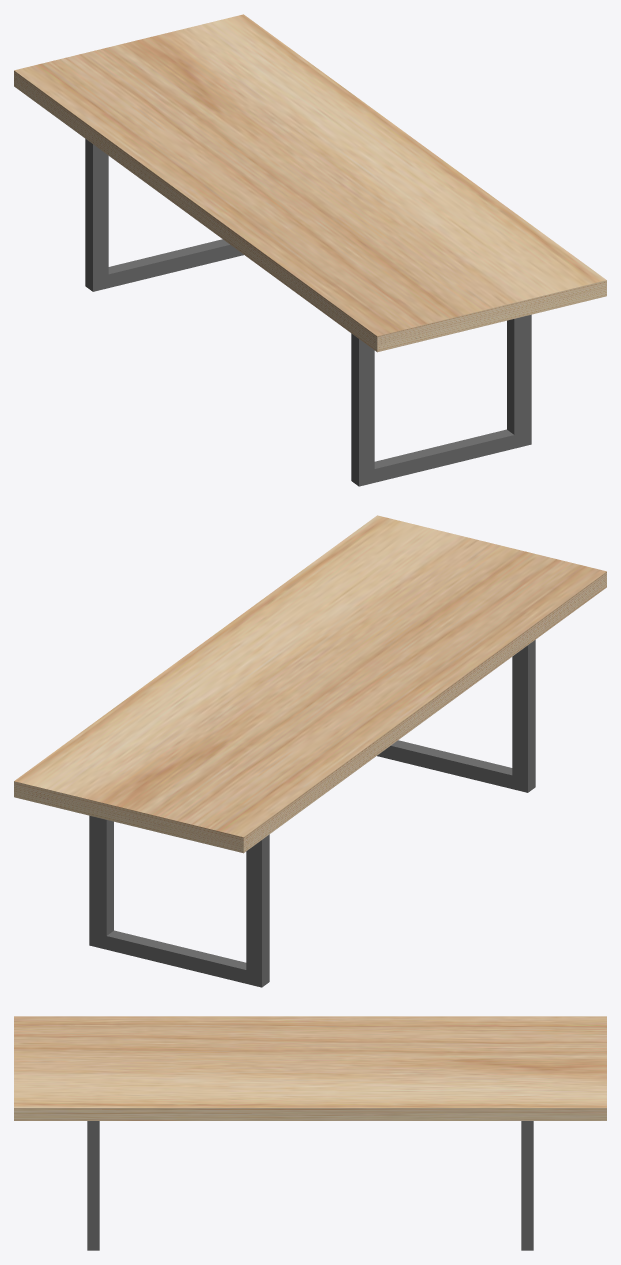
The model's file is table.fbx.
3 views of the same model, one above another, from view 1: azimuth 30°, elevation 25°; view 2: azimuth 150°, elevation 25°; view 3: azimuth 270°, elevation 25° (orthographic). The views are drawn at different scales.
Visible parts, largest first — view 1: Cube, Cube.001; view 2: Cube, Cube.001; view 3: Cube, Cube.001.
Boxes of the visible parts, bbox=[...] form: Cube: bbox=[14, 14, 606, 352]; Cube.001: bbox=[85, 139, 531, 486]; Cube: bbox=[14, 515, 606, 853]; Cube.001: bbox=[89, 640, 535, 987]; Cube: bbox=[14, 1016, 606, 1120]; Cube.001: bbox=[87, 1121, 533, 1250].
Size of the model in its own units: 360 by 284 by 986.
Materials: 2 (1 with a texture image).
